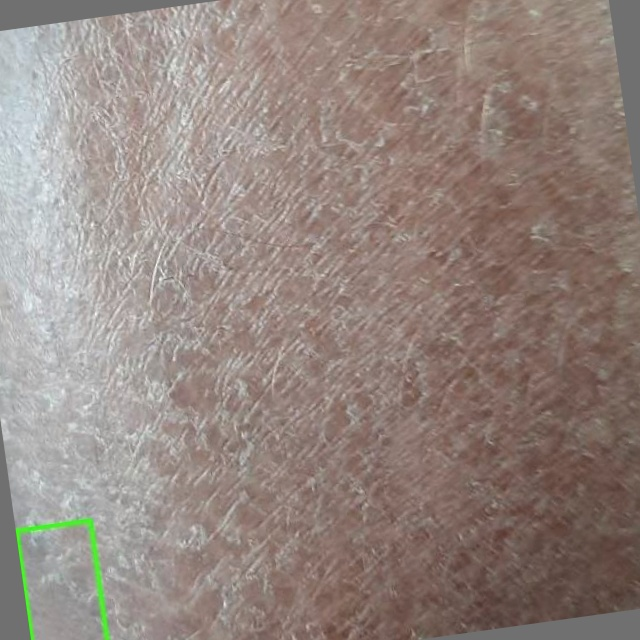Tinea Corporis: (16, 520, 107, 639)
